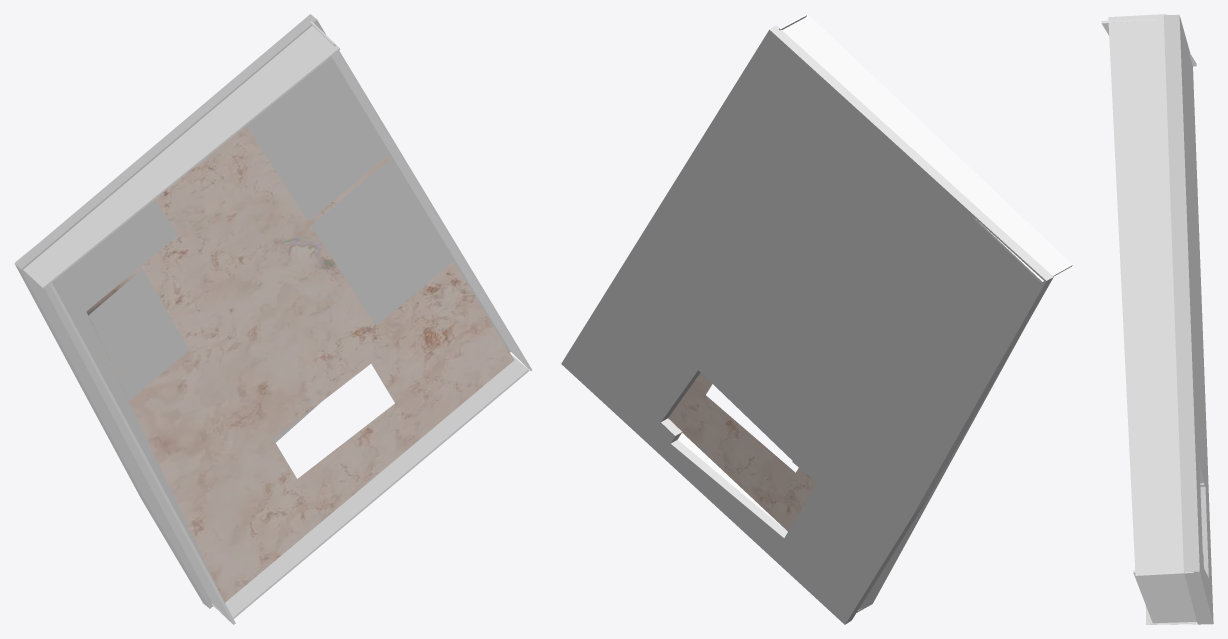
Rendered from 2nd_floor_base.glb.
3 views of the same model, side by side, from view 1: azimuth 30°, elevation 25°; view 2: azimuth 150°, elevation 25°; view 3: azimuth 270°, elevation 25° (orthographic). The views are drawn at different scales.
Parts seen in each view (by area): view 1: Geom3D.379, Cube.047, Cube.046; view 2: Cube.047, Cube.046, Geom3D.379; view 3: Cube.046, Cube.047.
Boxes of the visible parts, x1,y1,x2,y2 form: Geom3D.379: [86, 126, 514, 602]; Cube.047: [14, 14, 510, 608]; Cube.046: [15, 21, 531, 624]; Cube.047: [561, 25, 1053, 624]; Cube.046: [677, 14, 1072, 612]; Geom3D.379: [668, 373, 817, 531]; Cube.046: [1101, 14, 1196, 624]; Cube.047: [1163, 14, 1213, 624].
Size of the model in its own units: 0.7629 by 0.8503 by 0.1307.
2 materials, 1 textured.
